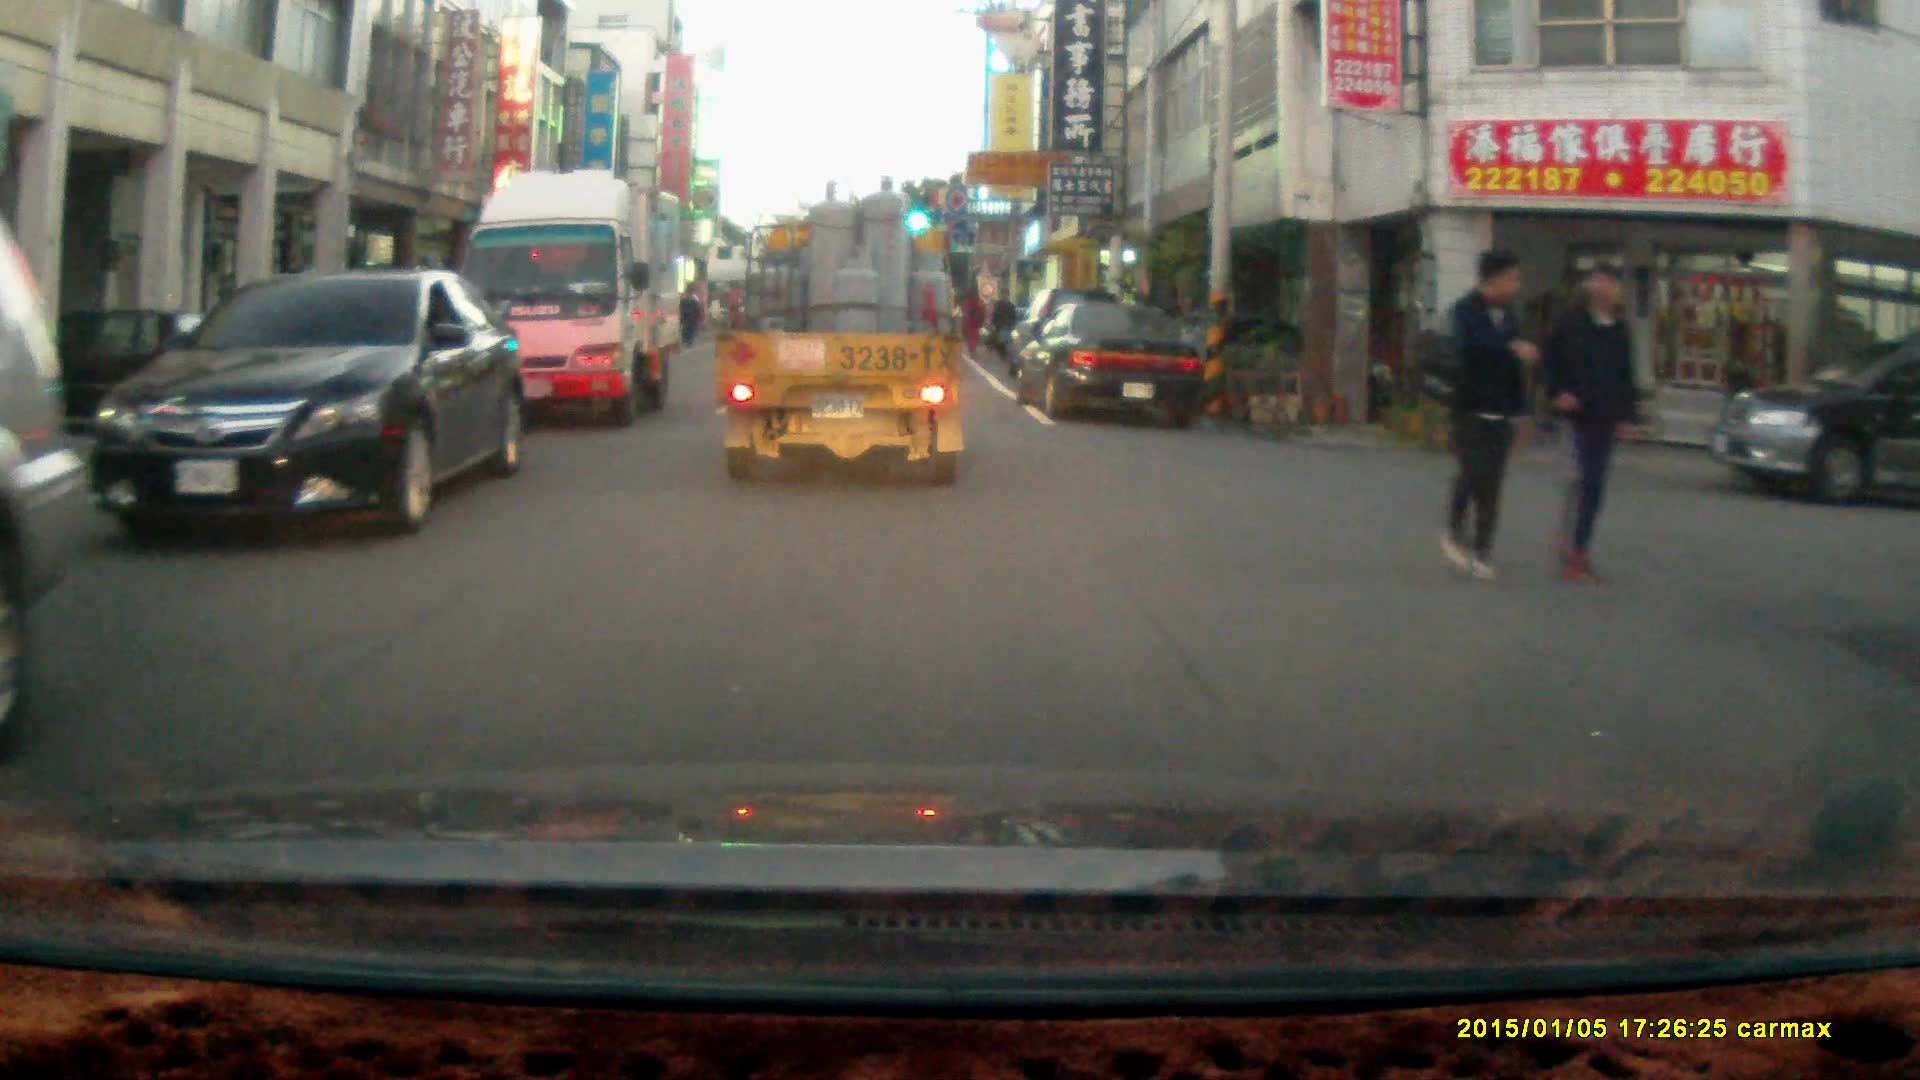pedestrian: (1541, 257, 1643, 592), (1435, 247, 1531, 582), (987, 286, 1017, 364), (960, 283, 986, 357), (670, 287, 702, 348)
vehicle: (88, 265, 529, 535), (720, 172, 970, 488), (456, 167, 685, 430), (1015, 301, 1208, 421)
